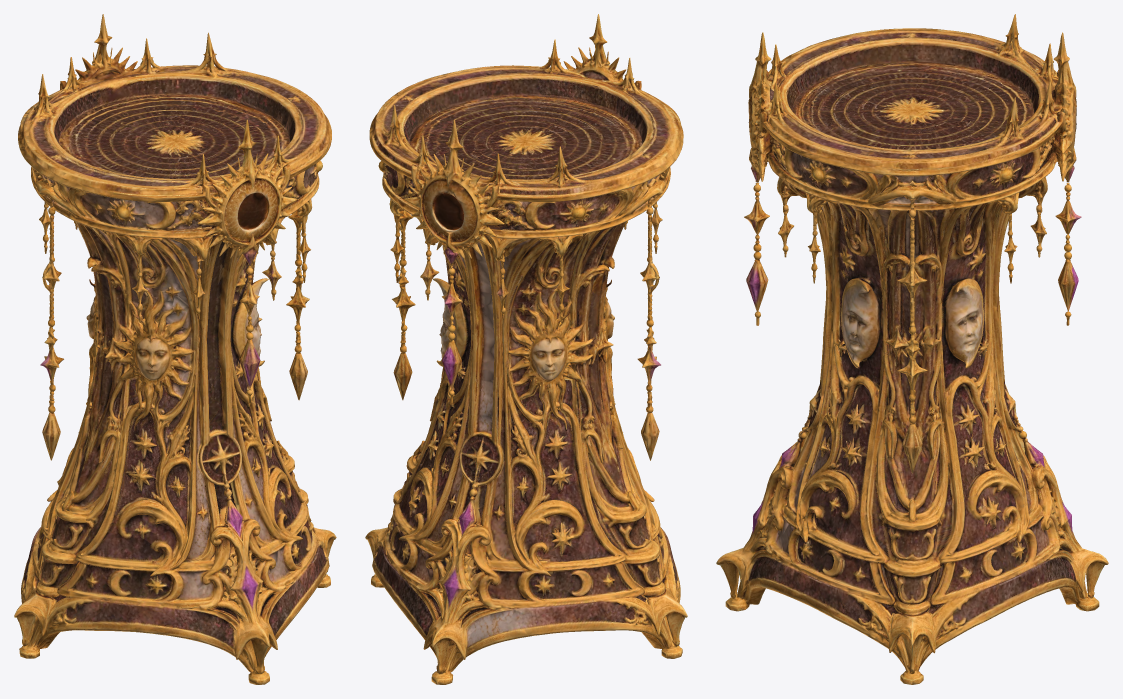
Rendered from celestial-altar.glb.
3 renders of one model, left to right at view 1: azimuth 30°, elevation 25°; view 2: azimuth 150°, elevation 25°; view 3: azimuth 270°, elevation 25°, orthographic. The views are drawn at different scales.
Size of the model in its own units: 1.16 by 1.9 by 1.18.
Materials: 1 (1 with a texture image).
